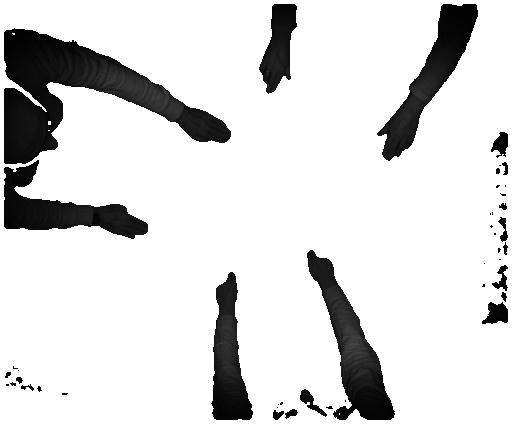hand: (376, 109, 423, 167), (97, 200, 151, 239), (256, 42, 295, 95), (180, 109, 231, 143), (304, 248, 337, 287), (216, 272, 239, 310)
